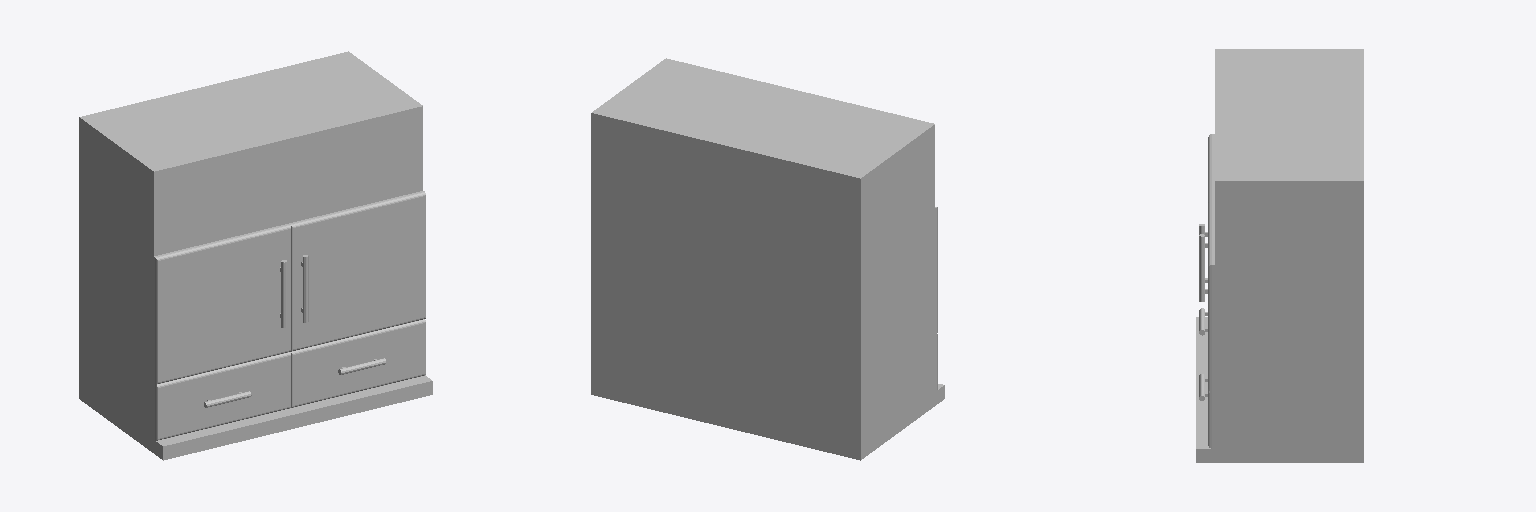
Rendered from kitchen_cabinet.obj.
The picture shows the model from 3 angles: view 1: azimuth 30°, elevation 25°; view 2: azimuth 150°, elevation 25°; view 3: azimuth 270°, elevation 25°; orthographic projection.
Parts seen in each view (by area): view 1: kitchen_cabinet_Cube.003; view 2: kitchen_cabinet_Cube.003; view 3: kitchen_cabinet_Cube.003.
Part boxes in pixels (left/top/right/bottom): kitchen_cabinet_Cube.003: left=79, top=51, right=432, bottom=460; kitchen_cabinet_Cube.003: left=591, top=58, right=944, bottom=460; kitchen_cabinet_Cube.003: left=1196, top=49, right=1363, bottom=462.
Bounding box in the file's own units: 1 × 1 × 0.54.